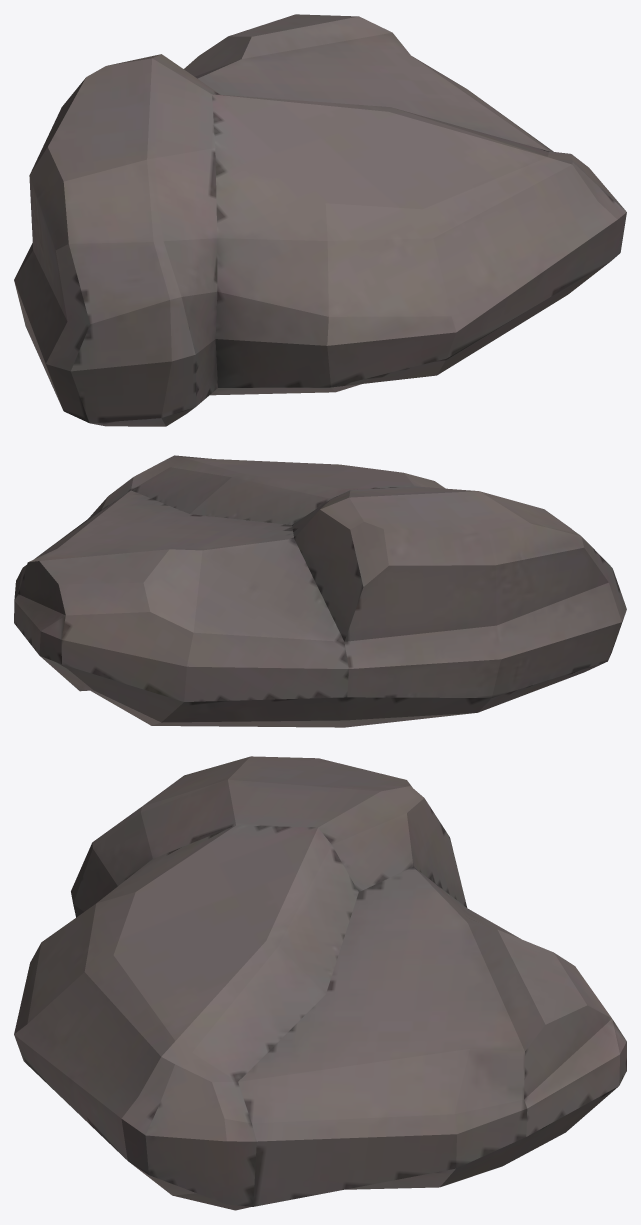
3 views of the same model, one above another, from view 1: azimuth 30°, elevation 25°; view 2: azimuth 150°, elevation 25°; view 3: azimuth 270°, elevation 25° (orthographic). The views are drawn at different scales.
Visible parts, largest first — view 1: body0_model0_lod0_mesh0; view 2: body0_model0_lod0_mesh0; view 3: body0_model0_lod0_mesh0.
Boxes of the visible parts, <box> form: body0_model0_lod0_mesh0: <box>14,14,626,426</box>; body0_model0_lod0_mesh0: <box>14,455,626,727</box>; body0_model0_lod0_mesh0: <box>14,756,626,1210</box>.
Bounding box in the file's own units: 80.7 × 35.12 × 71.19.
Materials: 1 (1 with a texture image).
